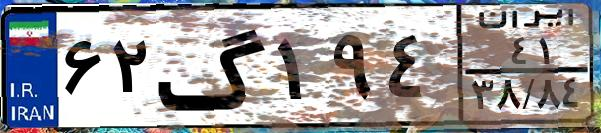1: (270, 28, 330, 110), (537, 27, 568, 80)
2: (110, 28, 156, 98)
3: (470, 70, 495, 125)
4: (385, 28, 445, 110), (560, 70, 590, 125), (508, 27, 537, 80)
6: (57, 26, 110, 100)
8: (495, 70, 520, 125), (535, 70, 560, 125)
9: (330, 28, 385, 110)
گ: (156, 12, 270, 120)
